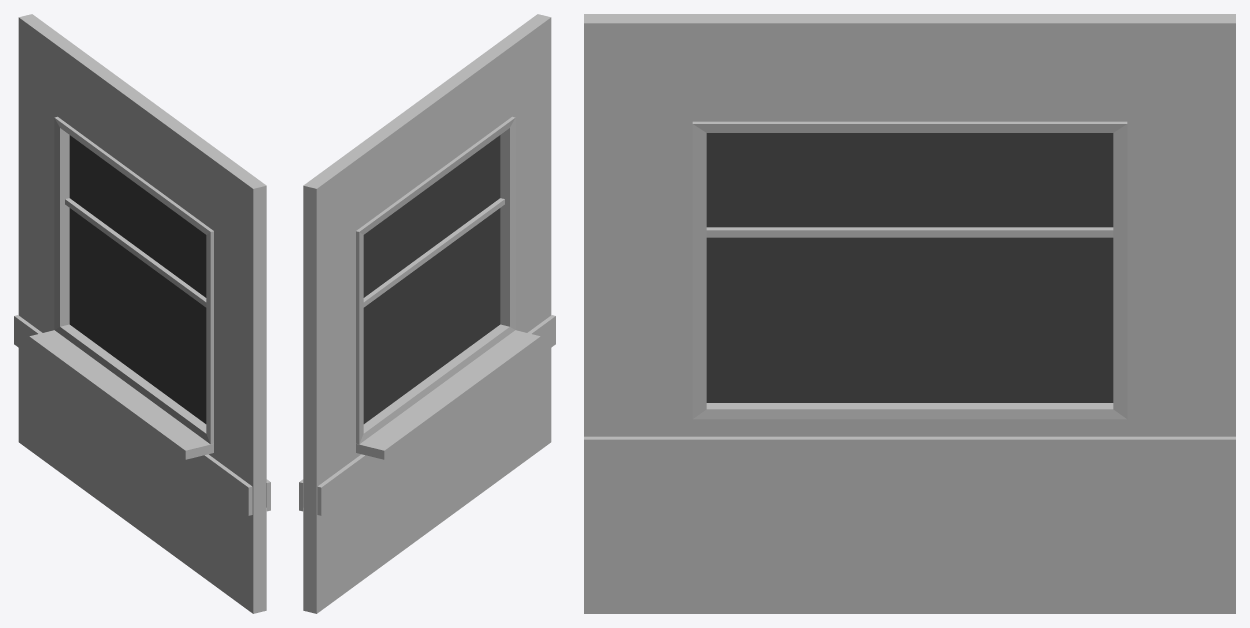
File: wall_window.fbx
The picture shows the model from 3 angles, left to right: view 1: azimuth 30°, elevation 25°; view 2: azimuth 150°, elevation 25°; view 3: azimuth 270°, elevation 25°; orthographic projection. The views are drawn at different scales.
Visible parts, largest first — view 1: Wall_window_1.014, dirt_glass; view 2: Wall_window_1.014, dirt_glass; view 3: Wall_window_1.014, dirt_glass.
Boxes of the visible parts, <box> form: Wall_window_1.014: <box>14,14,270,613</box>; dirt_glass: <box>69,135,206,423</box>; Wall_window_1.014: <box>299,14,555,613</box>; dirt_glass: <box>363,135,500,423</box>; Wall_window_1.014: <box>584,14,1235,613</box>; dirt_glass: <box>706,133,1113,402</box>.
Bounding box in the file's own units: 34.17 × 300 × 300.
